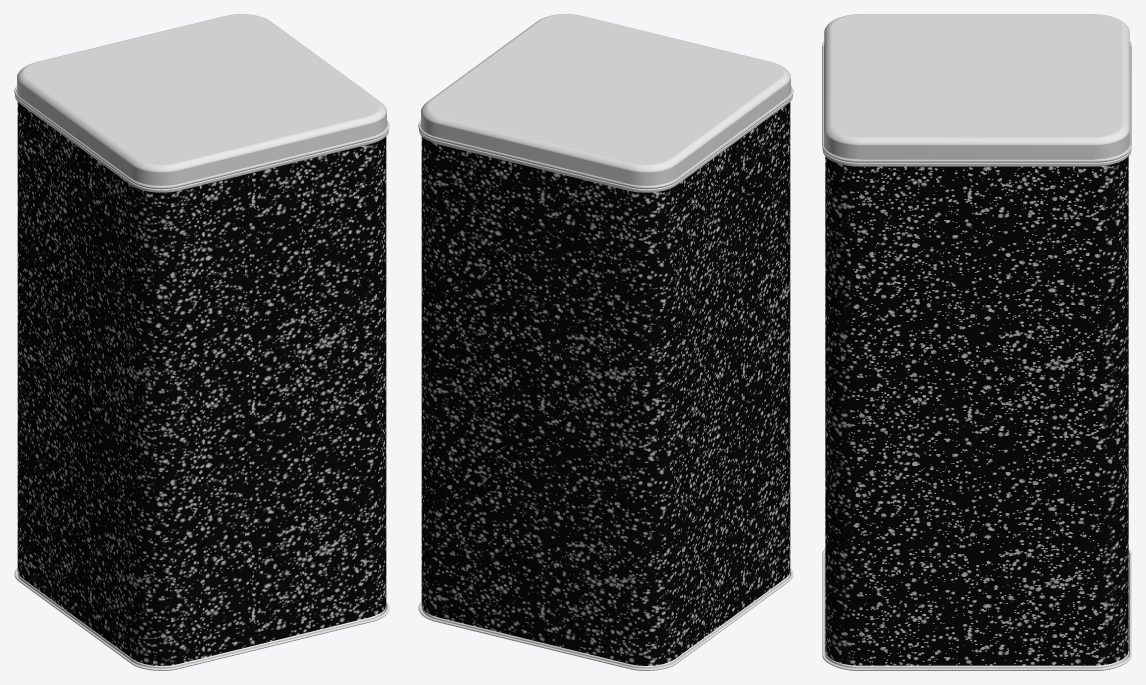
The model's file is LeePerrySmith2.glb.
3 views of the same model, side by side, from view 1: azimuth 30°, elevation 25°; view 2: azimuth 150°, elevation 25°; view 3: azimuth 270°, elevation 25° (orthographic). The views are drawn at different scales.
Parts seen in each view (by area): view 1: metal, top, Cube; view 2: metal, top, Cube; view 3: metal, top, Cube.
Boxes of the visible parts, x1=… form: metal: x1=17, y1=102, x2=386, y2=665; top: x1=14, y1=14, x2=389, y2=192; Cube: x1=14, y1=568, x2=389, y2=670; metal: x1=421, y1=102, x2=790, y2=665; top: x1=418, y1=14, x2=793, y2=192; Cube: x1=418, y1=568, x2=793, y2=670; metal: x1=825, y1=156, x2=1128, y2=665; top: x1=822, y1=14, x2=1131, y2=166; Cube: x1=822, y1=549, x2=1131, y2=670.
Size of the model in its own units: 3.39 by 6.4 by 3.39.
Materials: 2 (1 with a texture image).
